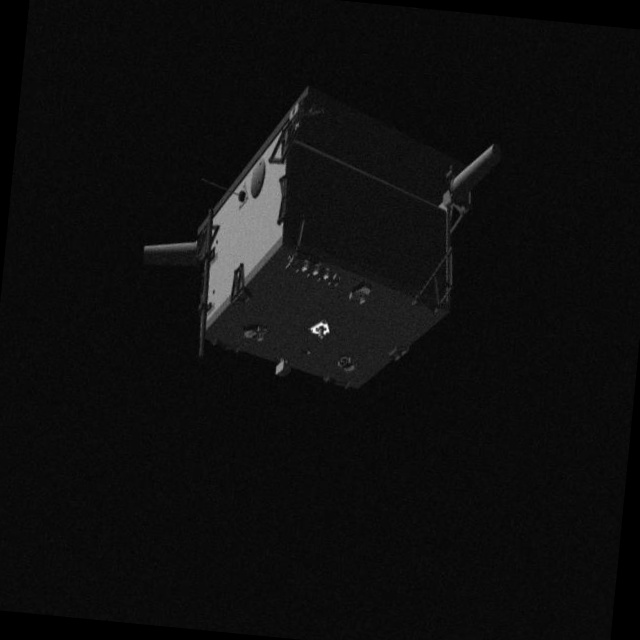satellite: (126, 69, 532, 406)
